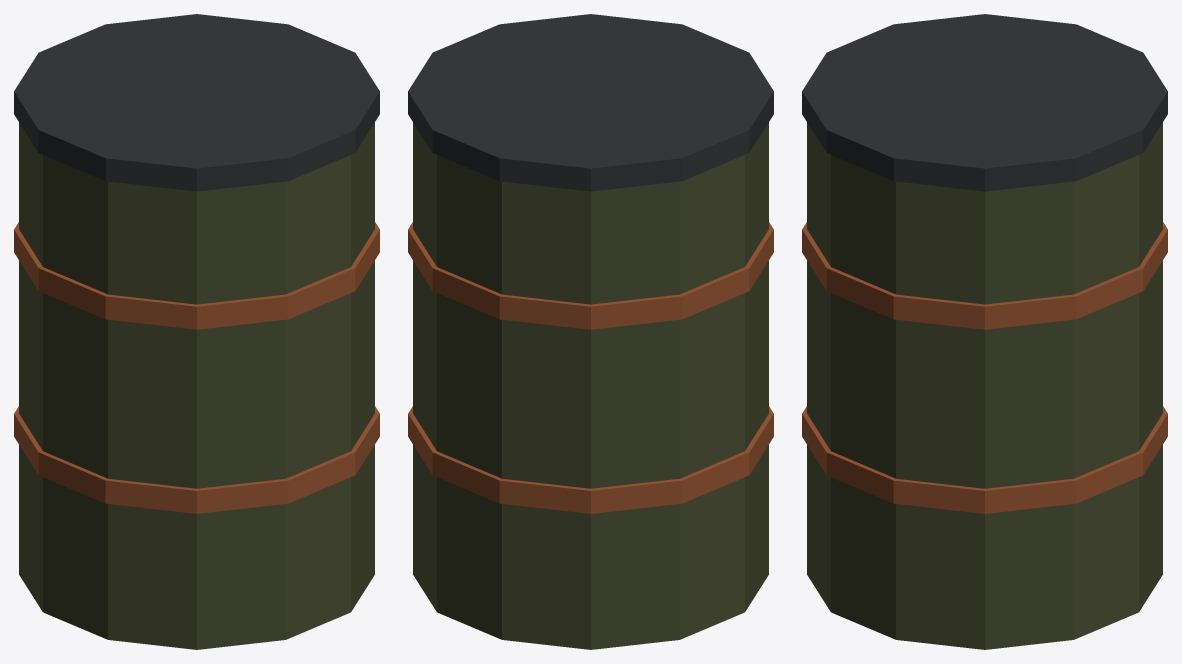
Rendered from SM_Prop_Barrel_Metal_01.glb.
3 renders of one model, left to right at view 1: azimuth 30°, elevation 25°; view 2: azimuth 150°, elevation 25°; view 3: azimuth 270°, elevation 25°, orthographic.
Parts seen in each view (by area): view 1: SM_Prop_Barrel_Metal_01; view 2: SM_Prop_Barrel_Metal_01; view 3: SM_Prop_Barrel_Metal_01.
Boxes of the visible parts, bbox=[...] form: SM_Prop_Barrel_Metal_01: bbox=[14, 14, 379, 649]; SM_Prop_Barrel_Metal_01: bbox=[408, 14, 773, 649]; SM_Prop_Barrel_Metal_01: bbox=[802, 14, 1167, 649].
Bounding box in the file's own units: 0.72 × 1.05 × 0.72.
1 material, 1 textured.
